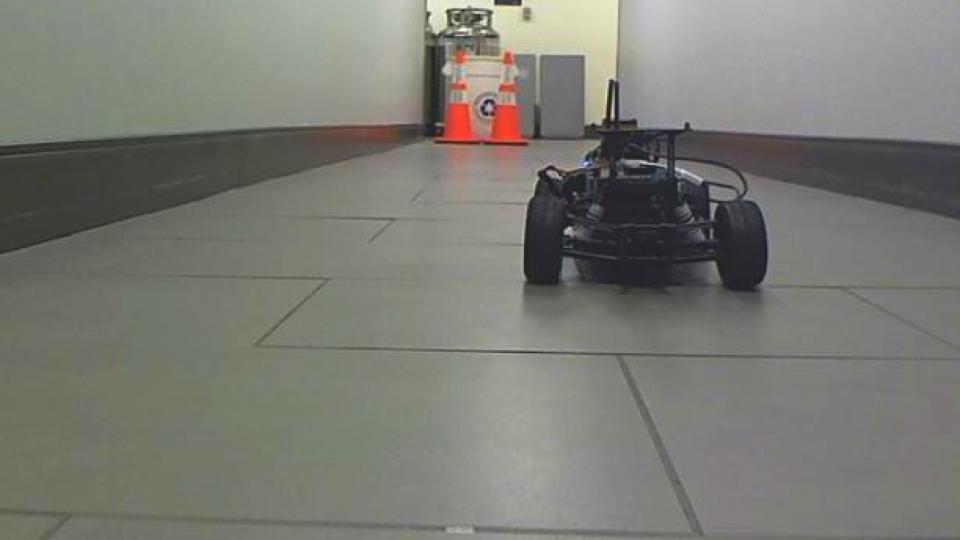car: (521, 78, 773, 294)
